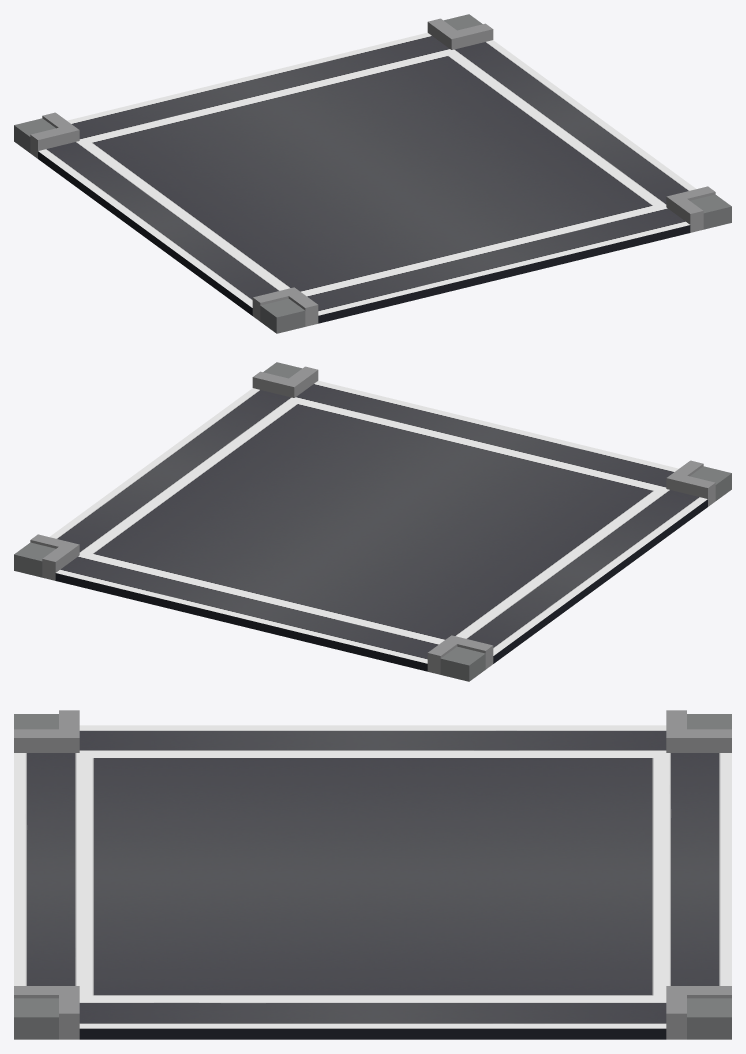
Rendered from RoadX.glb.
3 renders of one model, top to bottom at view 1: azimuth 30°, elevation 25°; view 2: azimuth 150°, elevation 25°; view 3: azimuth 270°, elevation 25°, orthographic. The views are drawn at different scales.
Parts seen in each view (by area): view 1: Road2_X; view 2: Road2_X; view 3: Road2_X.
Part boxes in pixels (x1=…): Road2_X: x1=14, y1=14, x2=731, y2=333; Road2_X: x1=14, y1=362, x2=731, y2=681; Road2_X: x1=14, y1=710, x2=731, y2=1039.
Size of the model in its own units: 3.66 by 0.1449 by 3.66.
Materials: 1 (1 with a texture image).
